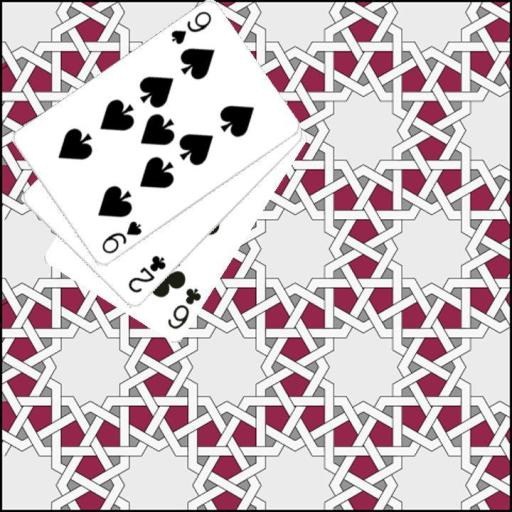2C: (124, 253, 168, 295)
6C: (165, 286, 204, 332)
9S: (167, 8, 213, 47), (98, 218, 144, 256)
